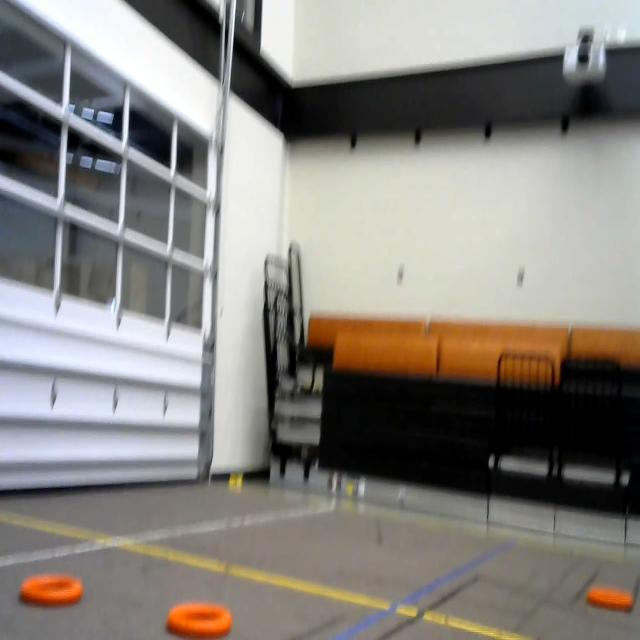note: (15, 565, 86, 608), (162, 600, 236, 640), (584, 582, 634, 619)
